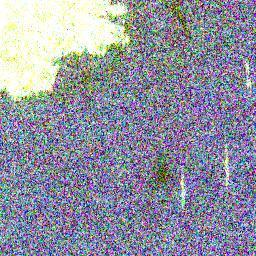Ship: (220, 153, 234, 188), (239, 61, 252, 90), (177, 175, 187, 206)
